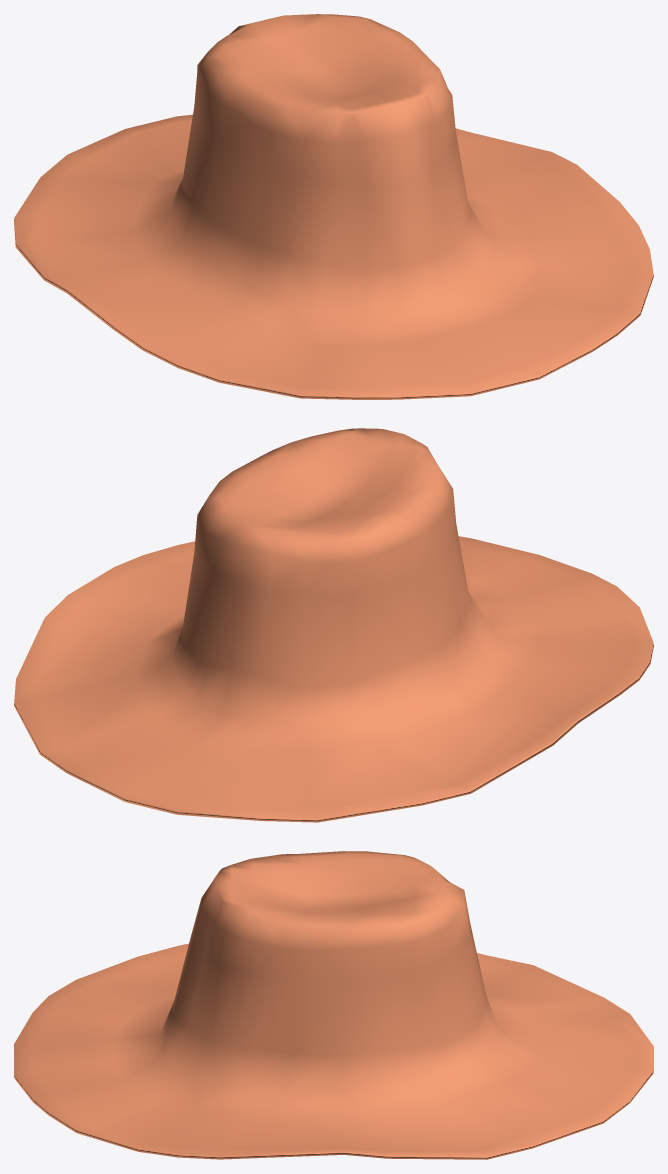
The model's file is CowboyHat.glb.
3 renders of one model, top to bottom at view 1: azimuth 30°, elevation 25°; view 2: azimuth 150°, elevation 25°; view 3: azimuth 270°, elevation 25°, orthographic. The views are drawn at different scales.
Visible parts, largest first — view 1: Hat4; view 2: Hat4; view 3: Hat4.
Boxes of the visible parts, x1,y1,x2,y2 form: Hat4: [14, 14, 653, 399]; Hat4: [14, 428, 653, 822]; Hat4: [14, 851, 653, 1159].
Size of the model in its own units: 0.747 by 0.2806 by 0.8963.
Materials: 1 (1 with a texture image).
